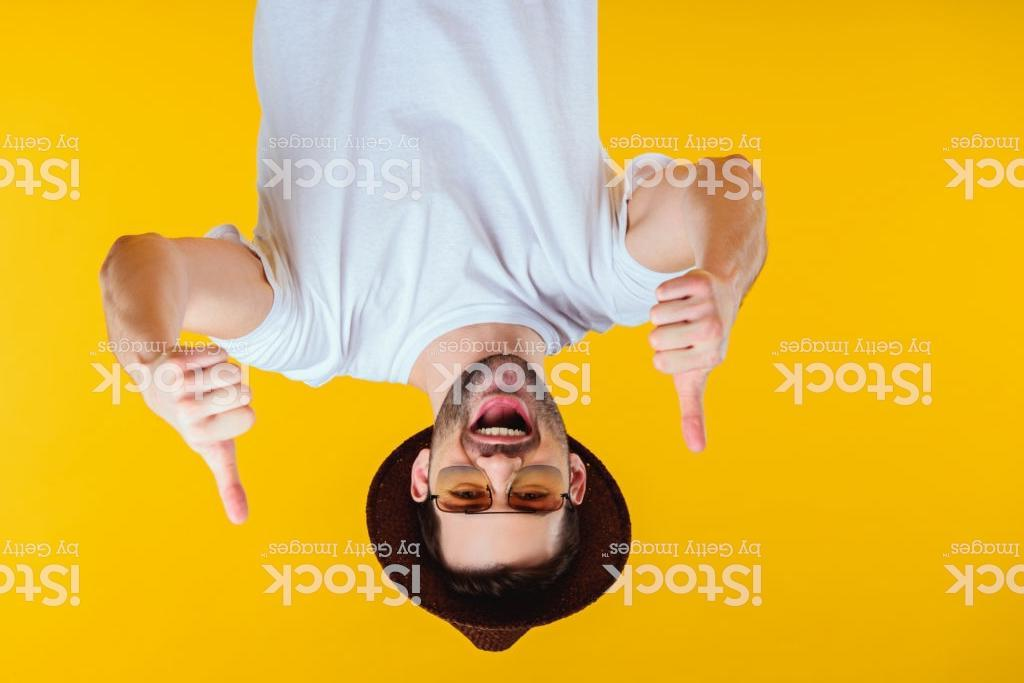thumbsdown: (151, 338, 259, 528), (647, 269, 731, 457)
